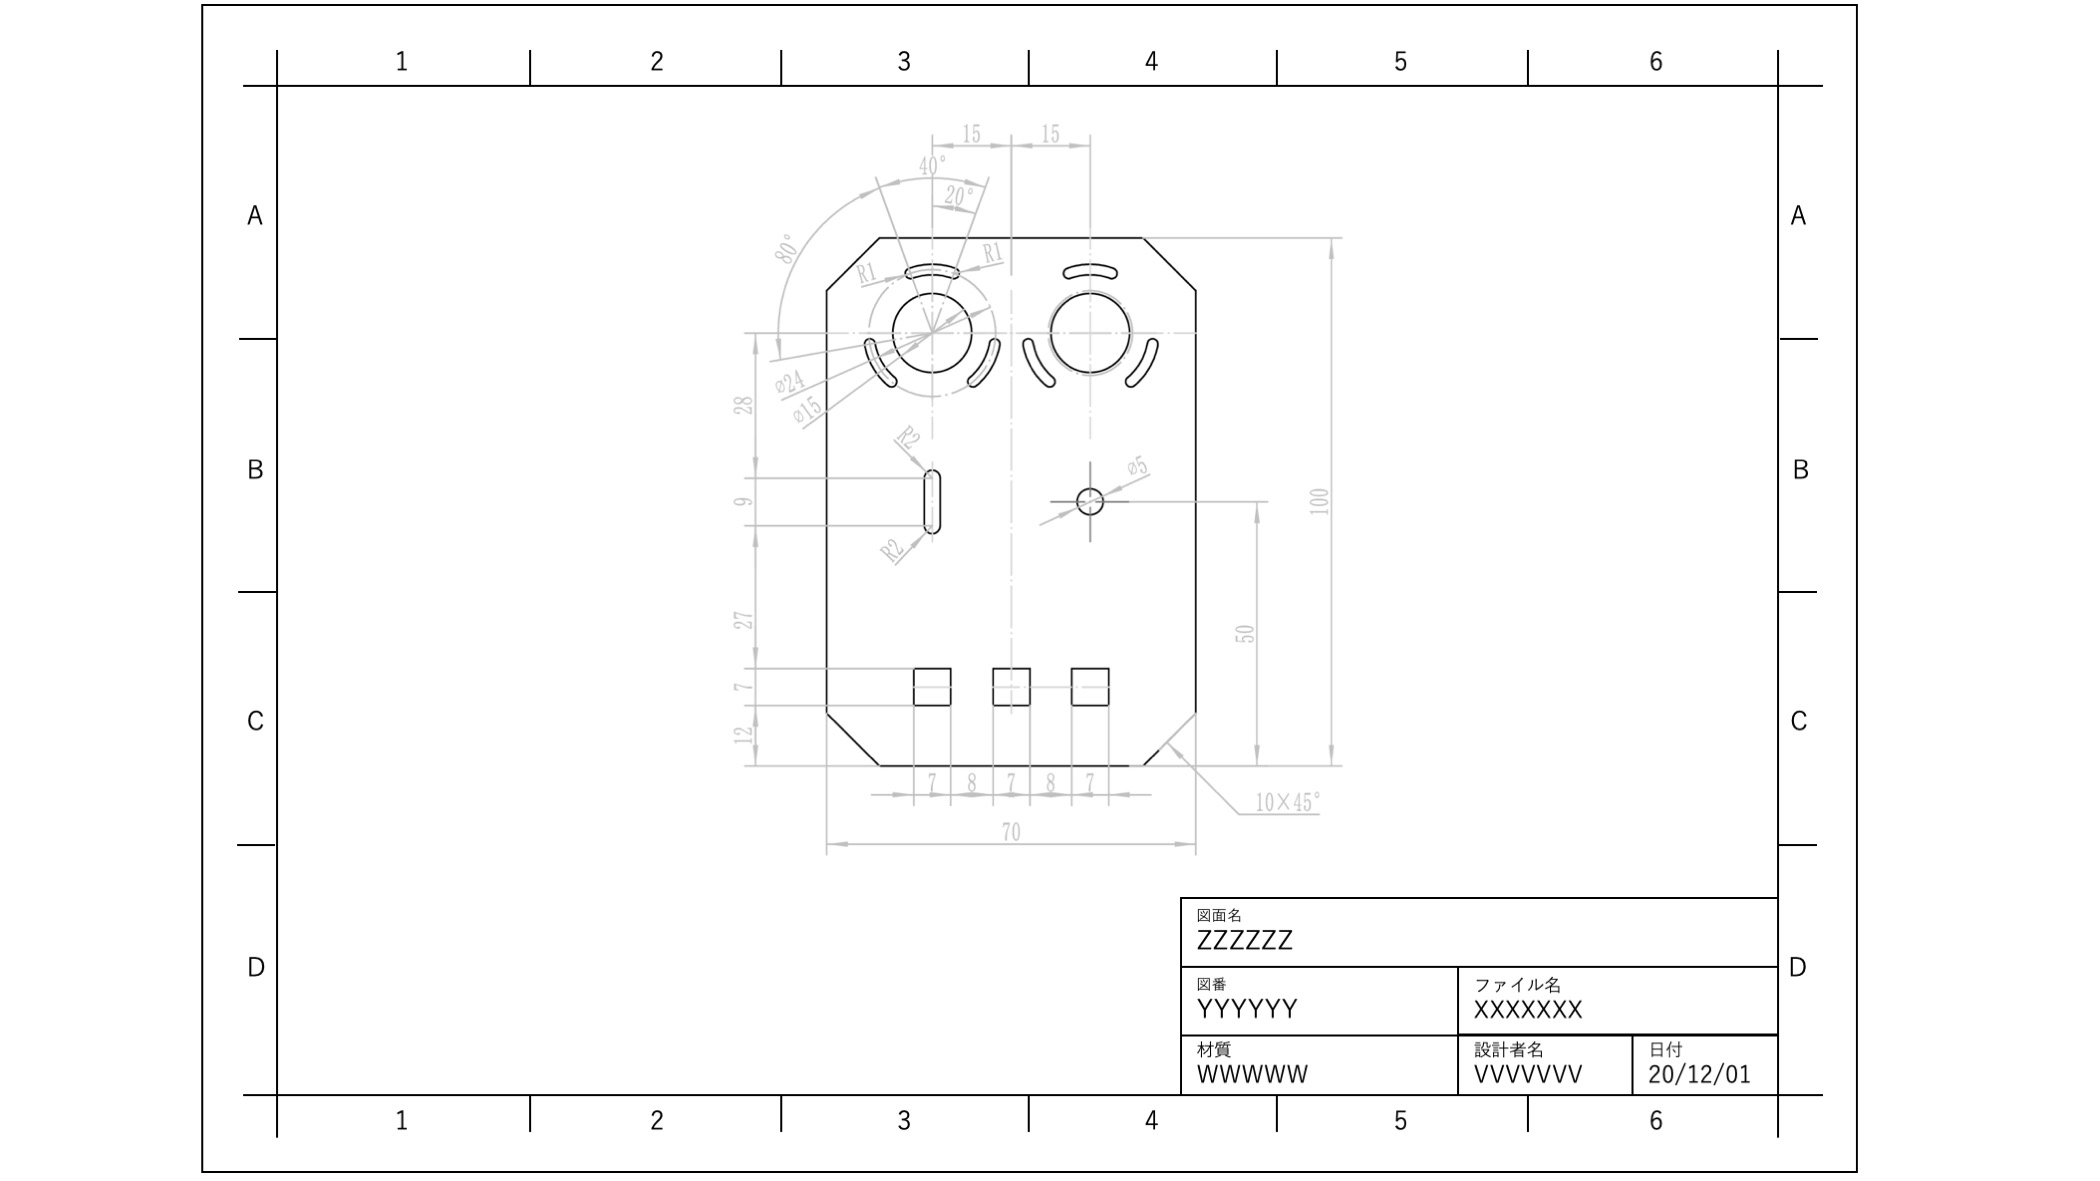circle: (1049, 290, 1138, 381), (886, 288, 981, 373), (1075, 479, 1115, 518)
rectangle: (1062, 650, 1115, 717), (909, 650, 961, 715), (984, 658, 1036, 715)
round_rectangle: (1012, 324, 1064, 397), (854, 322, 900, 397), (887, 252, 966, 287), (1121, 330, 1164, 391), (961, 327, 1000, 394), (1049, 257, 1134, 283), (917, 461, 945, 539)
